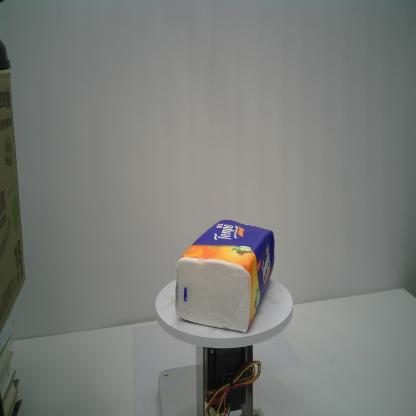Tissue: (175, 219, 274, 333)
